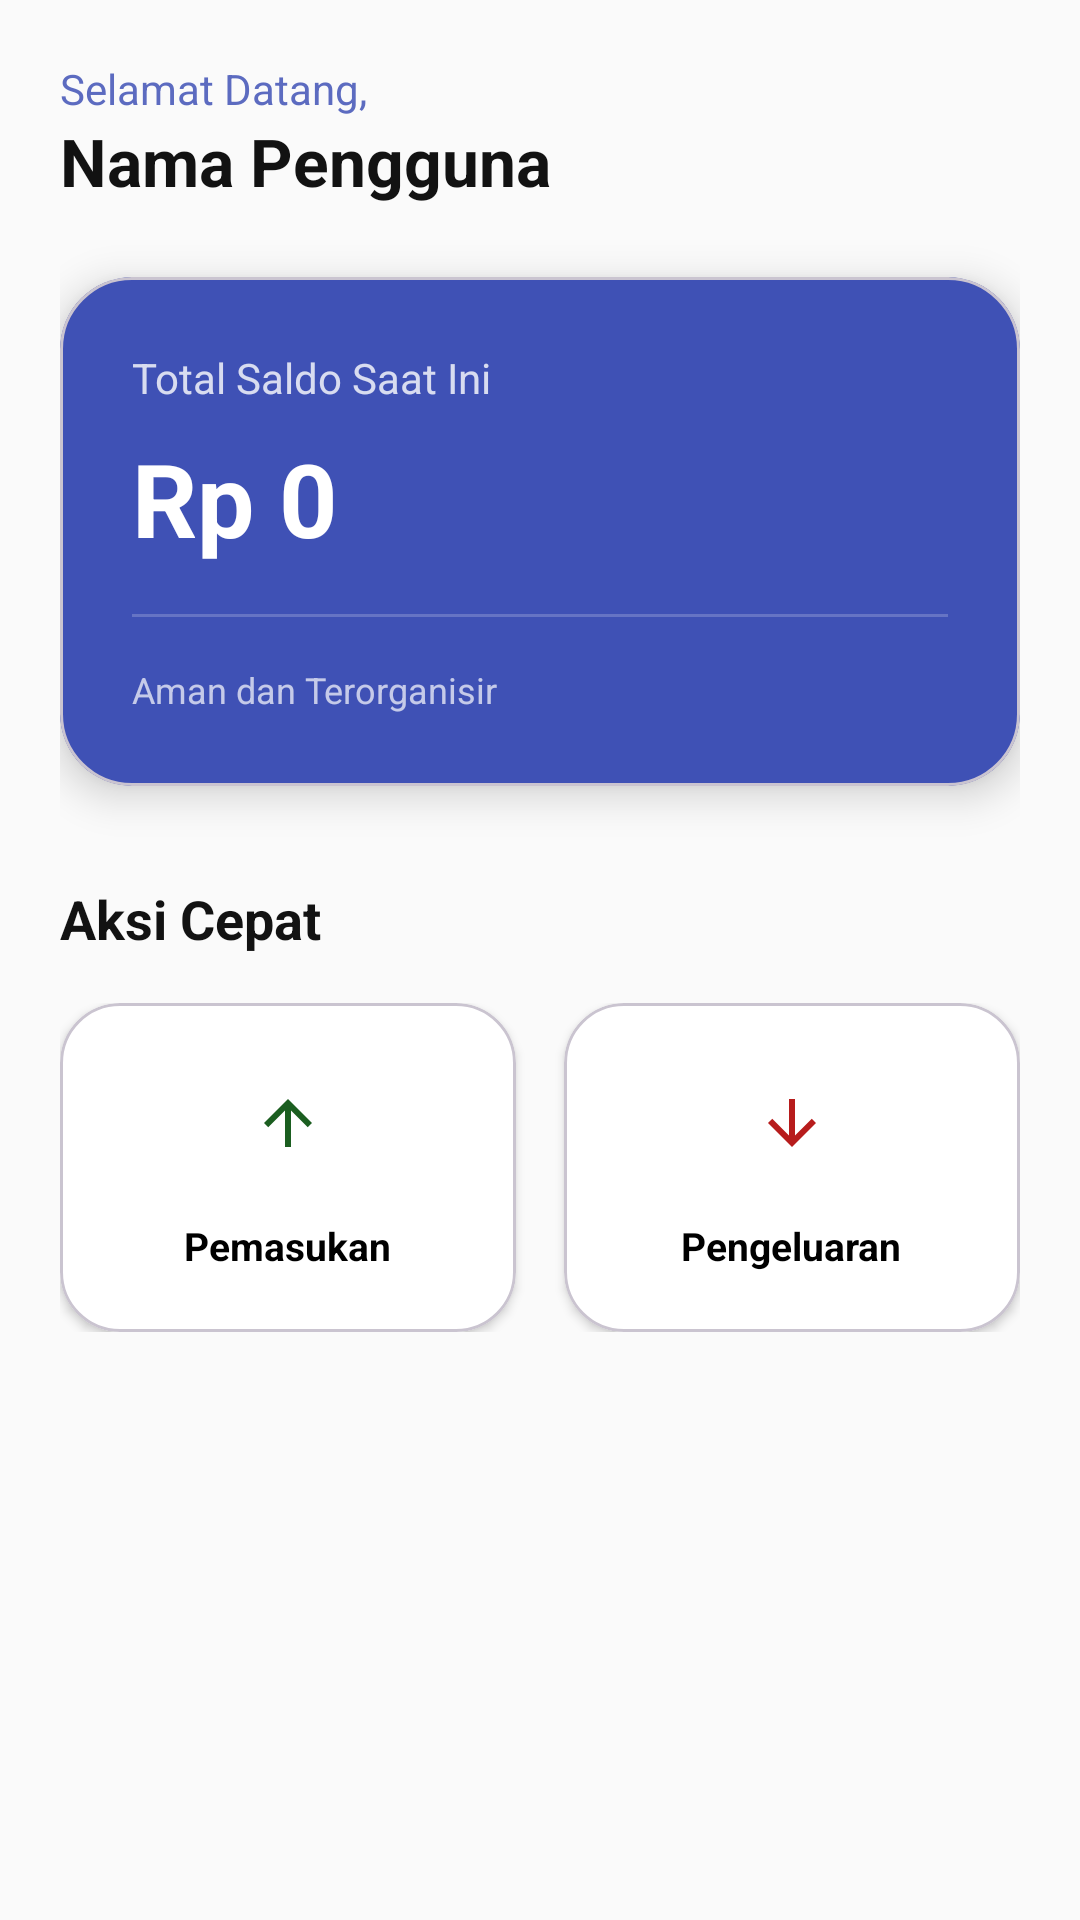

Named icons in this screenshot (1080x1920) and their bounding boxes, Rect(x1, y1, x2, y2):
arrow downward: Rect(768, 1099, 816, 1147)
arrow upward: Rect(264, 1099, 312, 1147)
